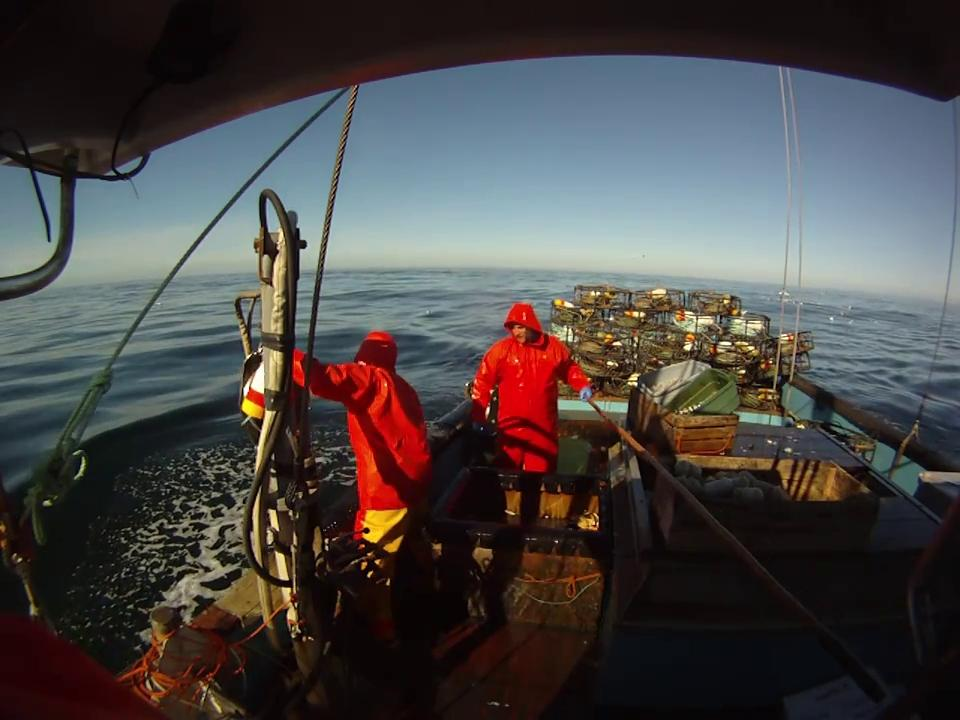victim: (284, 328, 432, 574), (462, 294, 598, 541)
